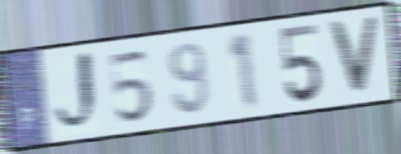1: (227, 30, 260, 113)
5: (107, 46, 156, 126), (277, 20, 323, 105)
9: (167, 40, 210, 118)
J: (51, 46, 104, 138)
V: (325, 15, 382, 97)
